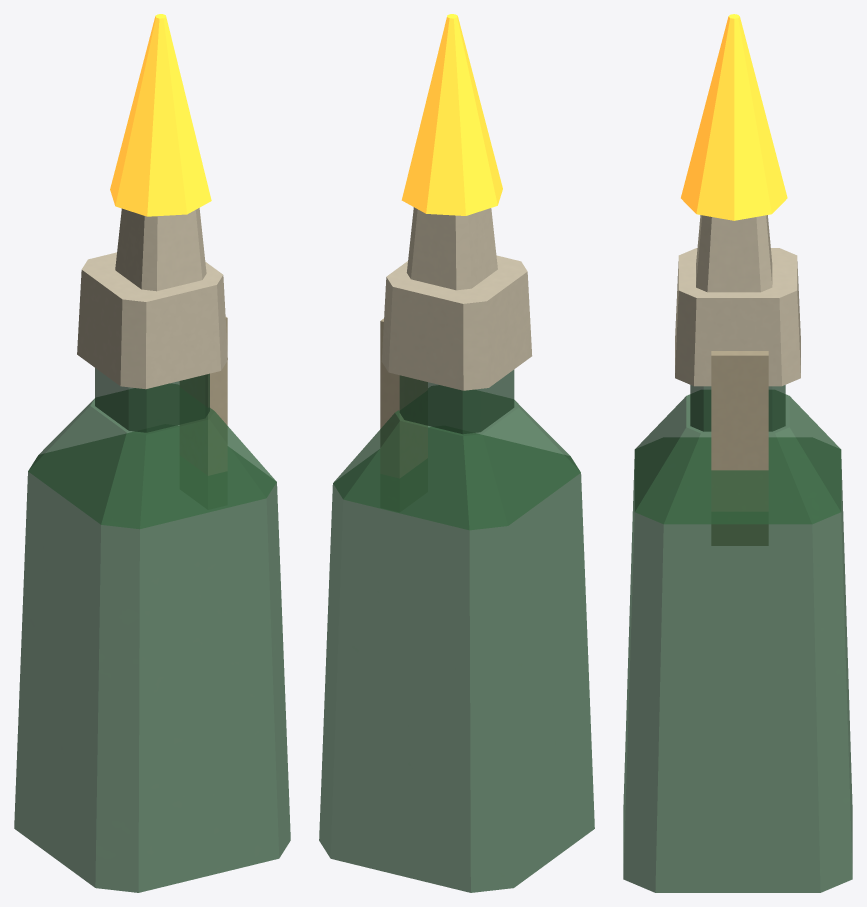
The model's file is molotov.glb.
3 views of the same model, side by side, from view 1: azimuth 30°, elevation 25°; view 2: azimuth 150°, elevation 25°; view 3: azimuth 270°, elevation 25° (orthographic).
Visible parts, largest first — view 1: Molotov, Flame; view 2: Molotov, Flame; view 3: Molotov, Flame.
Boxes of the visible parts, x1,y1,x2,y2 form: Molotov: (14,208,290,892); Flame: (110,14,211,216); Molotov: (319,207,594,892); Flame: (401,14,502,215); Molotov: (623,215,852,892); Flame: (681,14,787,220).
Bounding box in the file's own units: 0.12 × 0.48 × 0.12.
Materials: 3 (2 with a texture image).
